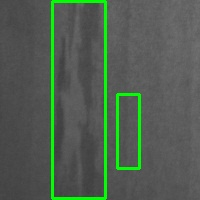inclusion: (52, 1, 105, 198), (117, 94, 139, 168)
